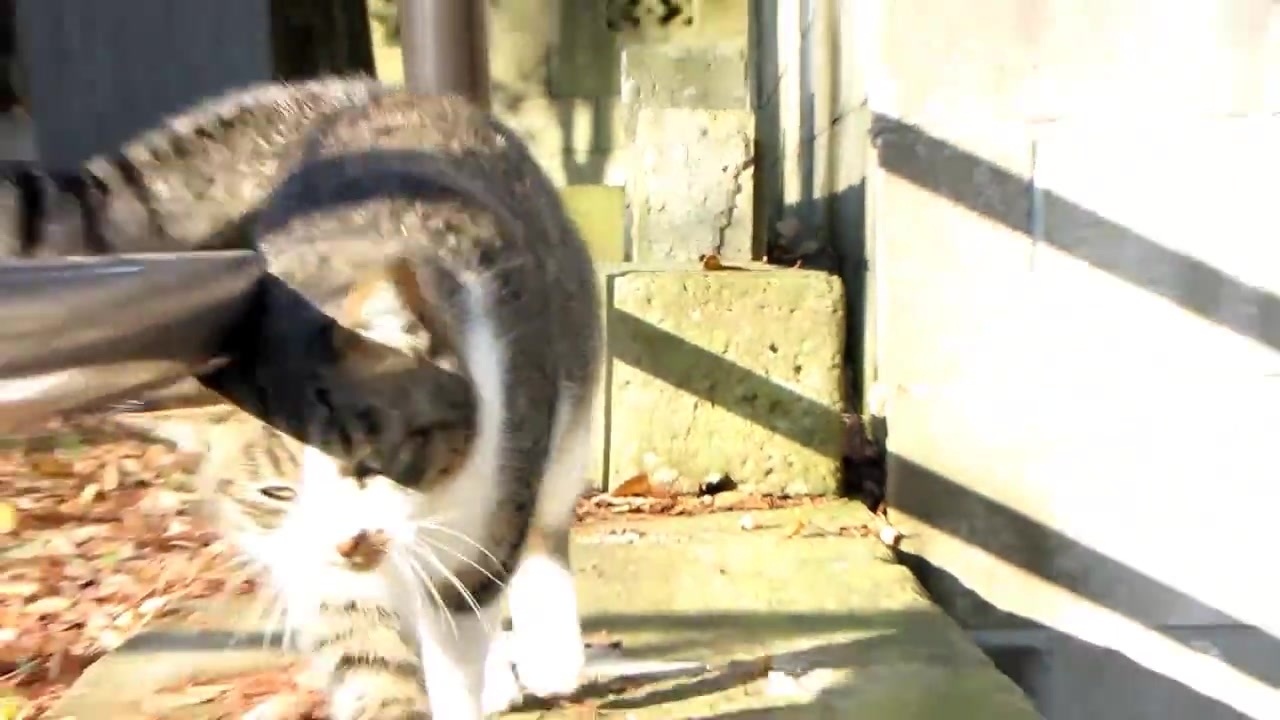cat: (3, 70, 605, 720)
